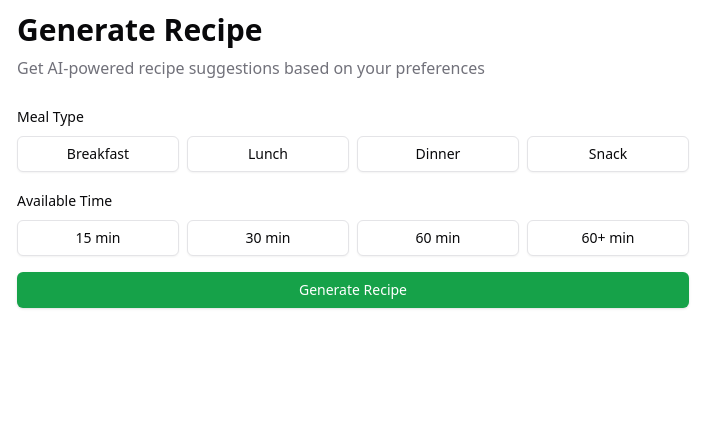
Scenario: RecipeGenerator › shows validation error for invalid time
# Click 60+ min button to show custom time input
Click the button "60+ min": (608, 238) x1=527 y1=220 x2=689 y2=256
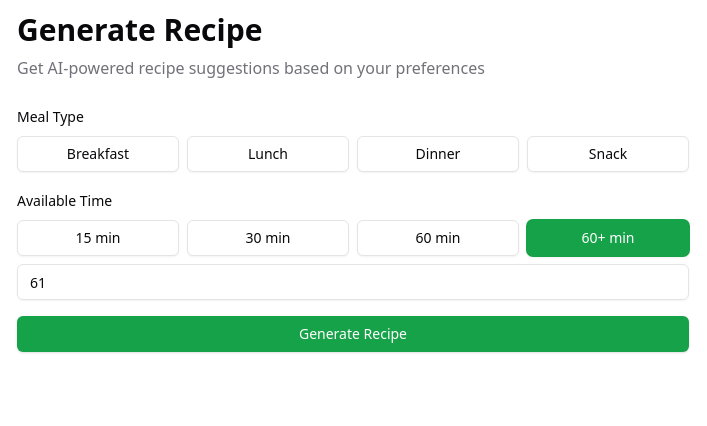
# Find the custom time input and enter invalid value
Replace the text in the number field with placeholder "Enter minutes" with "0": (353, 282) x1=17 y1=264 x2=689 y2=300
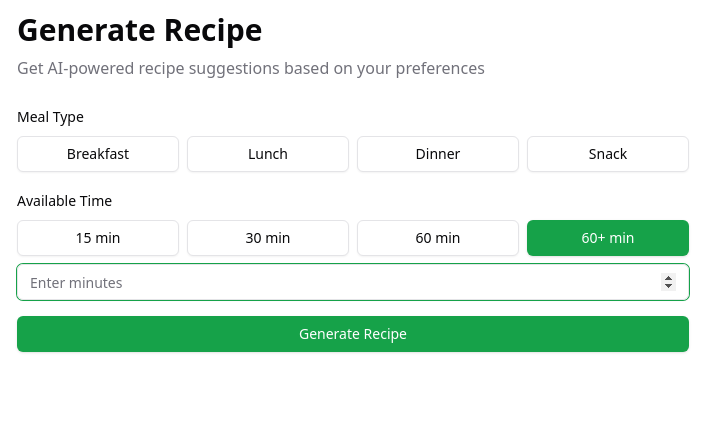
Click the button "Generate Recipe": (353, 334) x1=17 y1=316 x2=689 y2=352
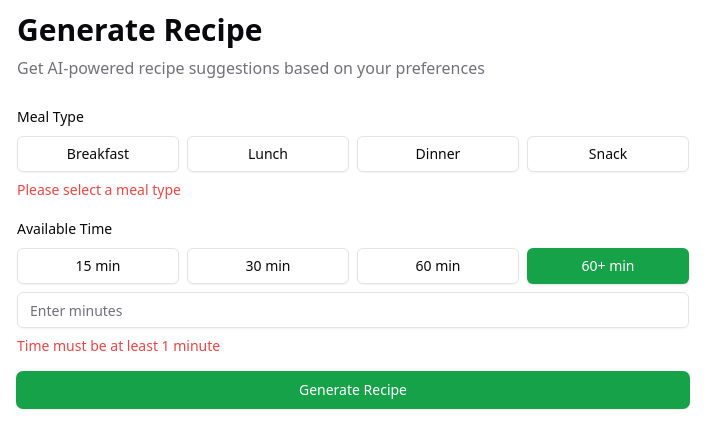
expect the text "Time must be at least 1 minute" is shown: met, box x1=17 y1=336 x2=220 y2=355
